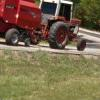Tractor: (8, 3, 95, 53)
